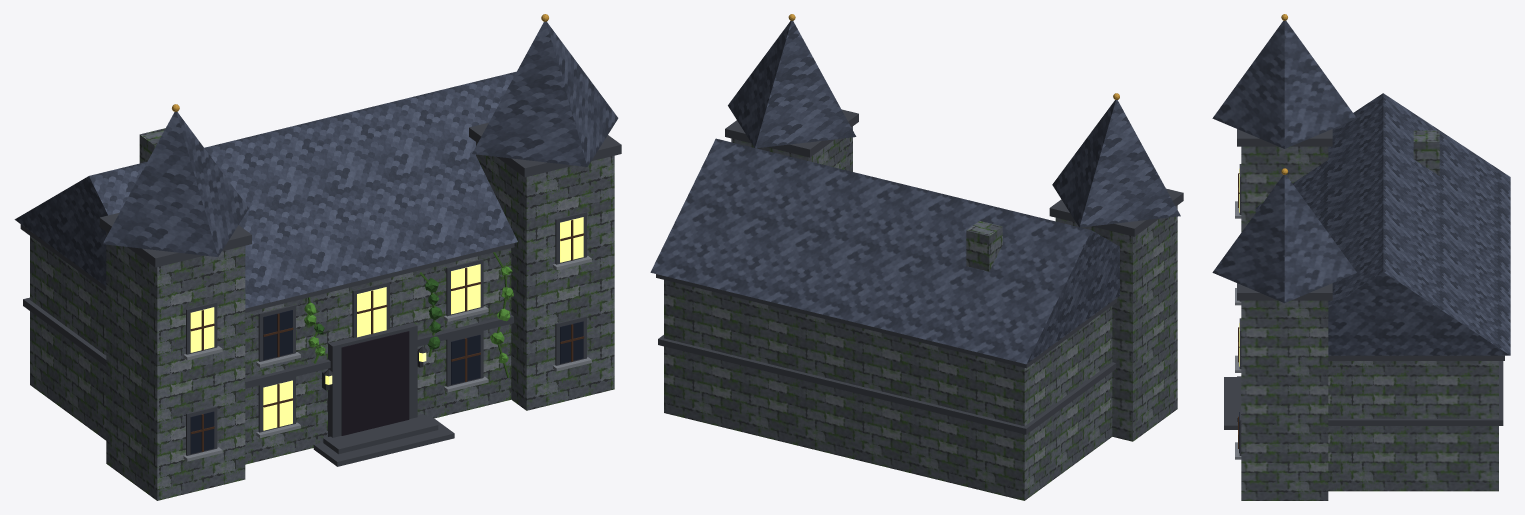
File: mansion.glb
3 views of the same model, side by side, from view 1: azimuth 30°, elevation 25°; view 2: azimuth 150°, elevation 25°; view 3: azimuth 270°, elevation 25° (orthographic). The views are drawn at different scales.
Parts seen in each view (by area): view 1: mansion; view 2: mansion; view 3: mansion.
Part boxes in pixels (left/top/right/bottom): mansion: left=14, top=14, right=621, bottom=500; mansion: left=650, top=14, right=1183, bottom=500; mansion: left=1212, top=14, right=1510, bottom=500.
Size of the model in its own units: 17.6 by 11.97 by 10.3.
Materials: 14 (2 with a texture image).
